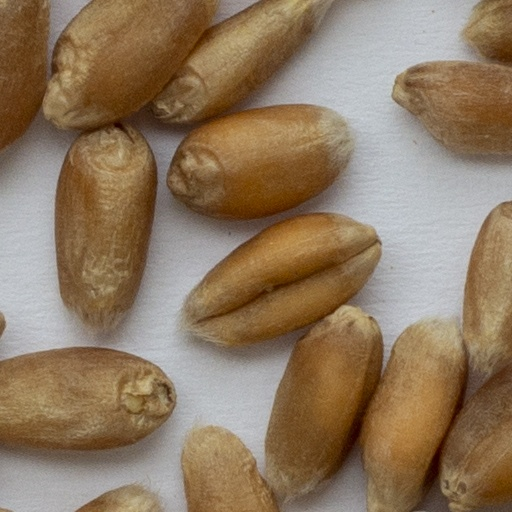Wheat-grain: (177, 214, 385, 346), (262, 306, 382, 497), (157, 0, 339, 125), (42, 0, 214, 132), (55, 125, 160, 341), (167, 103, 354, 221), (362, 311, 465, 511), (0, 346, 177, 451), (389, 63, 511, 155), (441, 364, 511, 508), (460, 196, 511, 388), (175, 419, 277, 511), (0, 0, 48, 168), (460, 0, 511, 69), (68, 484, 160, 511), (0, 307, 8, 343)
